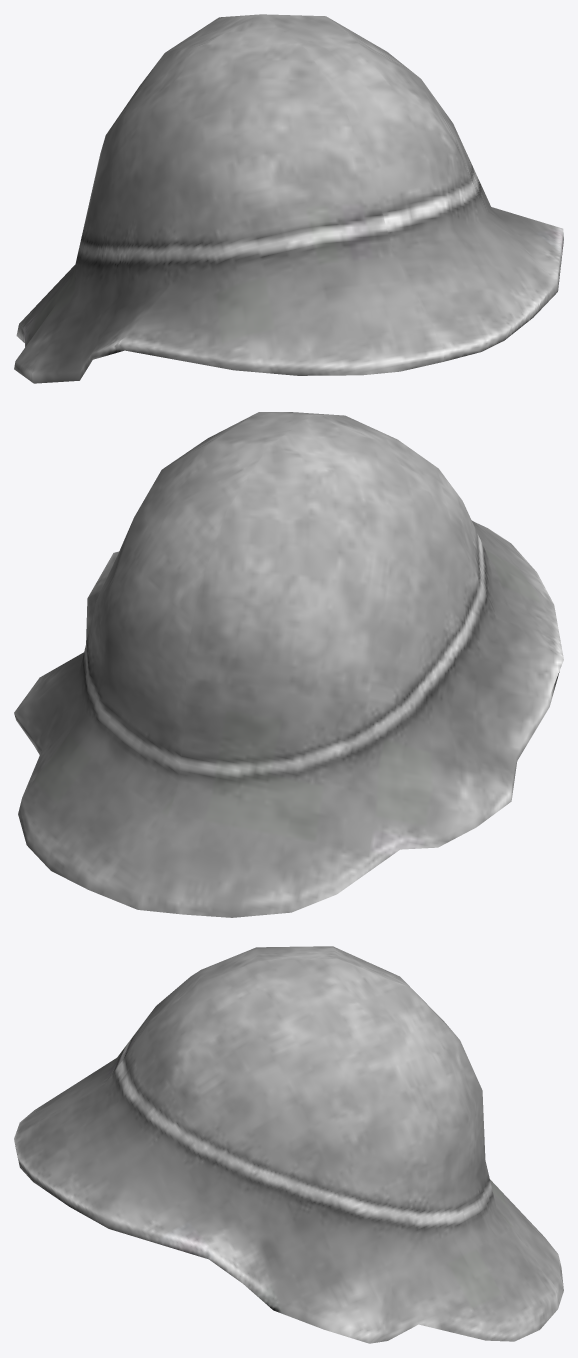
The model's file is helmet-mediumarchers.glb.
3 views of the same model, one above another, from view 1: azimuth 30°, elevation 25°; view 2: azimuth 150°, elevation 25°; view 3: azimuth 270°, elevation 25° (orthographic). The views are drawn at different scales.
Bounding box in the file's own units: 0.3535 × 0.2659 × 0.4017.
1 material, 1 textured.
